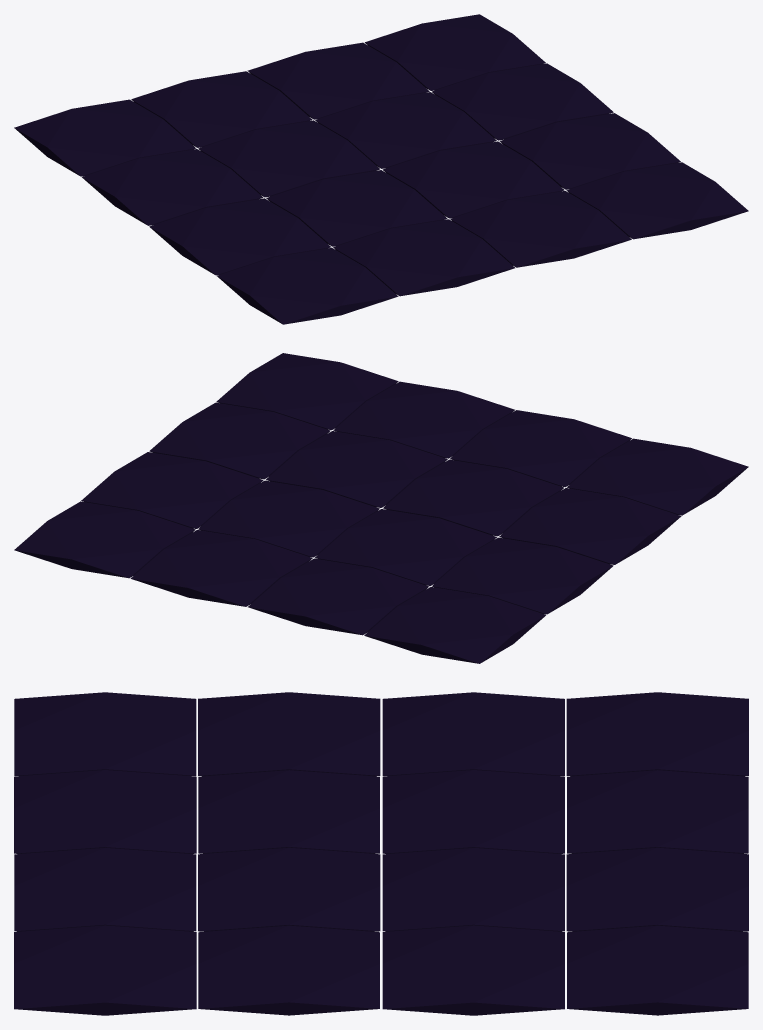
The model's file is Floor_1(dark blueish).fbx.
3 views of the same model, one above another, from view 1: azimuth 30°, elevation 25°; view 2: azimuth 150°, elevation 25°; view 3: azimuth 270°, elevation 25° (orthographic). The views are drawn at different scales.
Parts seen in each view (by area): view 1: Cube, Cube.006, Cube.002, Cube.004, Cube.009, Cube.001, Cube.008, Cube.010, Cube.014, Cube.005, Cube.013, Cube.012 (+4 smaller); view 2: Cube.009, Cube.013, Cube.011, Cube.015, Cube.001, Cube.008, Cube, Cube.005, Cube.002, Cube.014, Cube.006, Cube.010 (+4 smaller); view 3: Cube.006, Cube.014, Cube.015, Cube.007, Cube.009, Cube.001, Cube.005, Cube.013, Cube.002, Cube.010, Cube.004, Cube.012 (+4 smaller).
Boxes of the visible parts, x1,y1,x2,y2 form: Cube: (217, 247, 398, 324); Cube.006: (566, 162, 748, 239); Cube.002: (333, 219, 514, 296); Cube.004: (450, 191, 631, 267); Cube.009: (14, 99, 196, 176); Cube.001: (149, 198, 330, 275); Cube.008: (82, 149, 263, 225); Cube.010: (198, 120, 379, 197); Cube.014: (432, 63, 613, 140); Cube.005: (382, 141, 564, 218); Cube.013: (247, 42, 429, 119); Cube.012: (315, 92, 496, 168); Cube.009: (364, 587, 545, 663); Cube.013: (130, 530, 312, 606); Cube.011: (248, 558, 429, 635); Cube.015: (14, 501, 195, 578); Cube.001: (499, 488, 681, 564); Cube.008: (432, 537, 613, 614); Cube: (567, 438, 748, 515); Cube.005: (266, 431, 447, 507); Cube.002: (450, 410, 631, 487); Cube.014: (81, 452, 263, 528); Cube.006: (216, 353, 398, 430); Cube.010: (315, 509, 496, 585); Cube.006: (14, 925, 196, 1015); Cube.014: (382, 925, 564, 1015); Cube.015: (567, 925, 748, 1015); Cube.007: (198, 925, 379, 1015); Cube.009: (566, 692, 748, 776); Cube.001: (198, 692, 380, 776); Cube.005: (198, 847, 380, 931); Cube.013: (566, 847, 748, 931); Cube.002: (14, 770, 196, 853); Cube.010: (382, 770, 564, 853); Cube.004: (14, 847, 196, 931); Cube.012: (382, 847, 564, 931).
Size of the model in its own units: 800 by 15.9 by 800.
